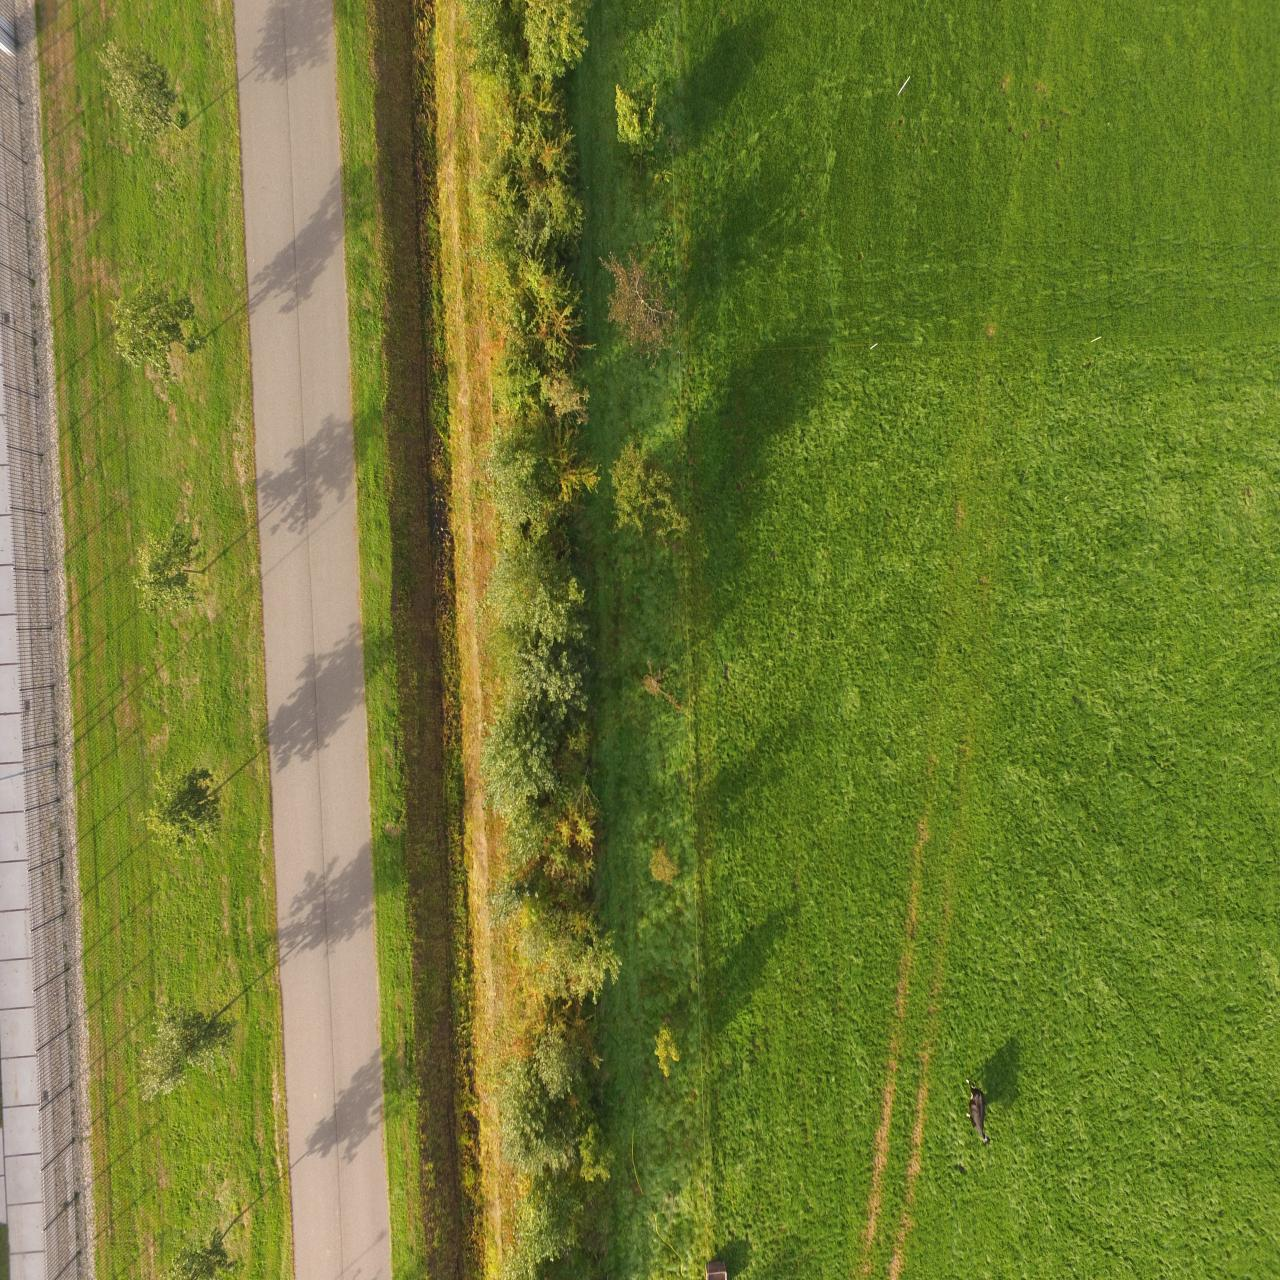cow: (961, 1077, 994, 1156)
